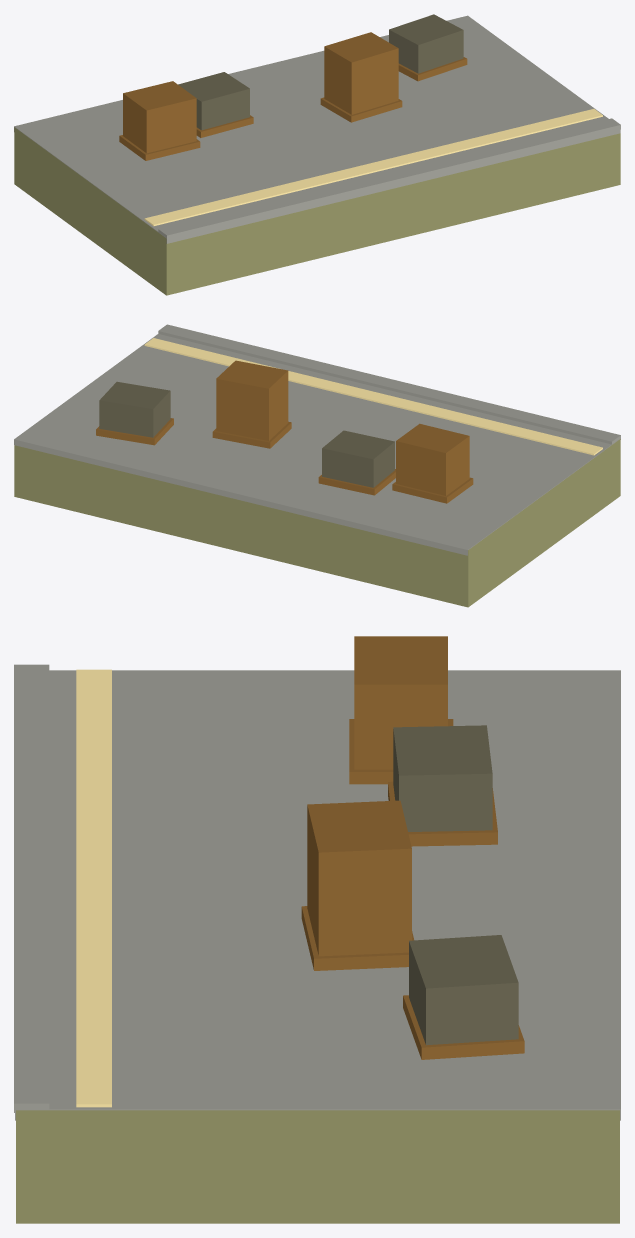
Rendered from SM_MuelleCarga_v1_LOD1.fbx.
3 renders of one model, top to bottom at view 1: azimuth 30°, elevation 25°; view 2: azimuth 150°, elevation 25°; view 3: azimuth 270°, elevation 25°, orthographic. The views are drawn at different scales.
Visible parts, largest first — view 1: SM_muelle_carga_v1_LOD1; view 2: SM_muelle_carga_v1_LOD1; view 3: SM_muelle_carga_v1_LOD1.
Boxes of the visible parts, x1=… form: SM_muelle_carga_v1_LOD1: x1=14, y1=14, x2=620, y2=295; SM_muelle_carga_v1_LOD1: x1=14, y1=324, x2=620, y2=607; SM_muelle_carga_v1_LOD1: x1=14, y1=636, x2=620, y2=1223.
Bounding box in the file's own units: 9.98 × 2.44 × 5.83.
